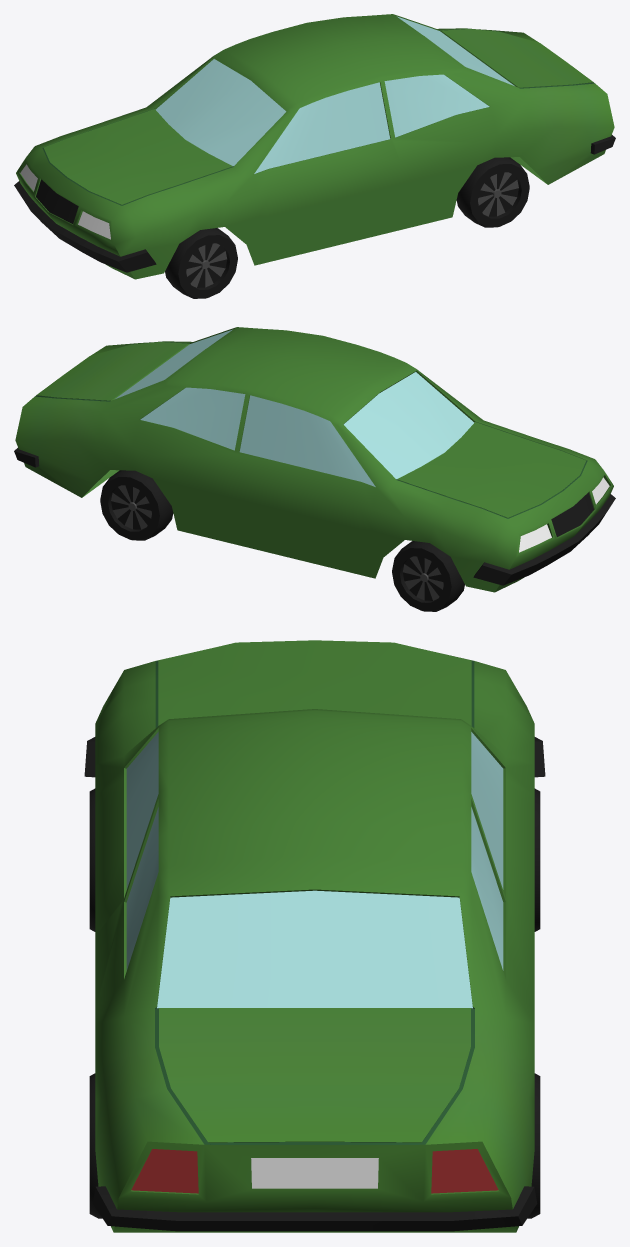
Rendered from green car.glb.
3 views of the same model, one above another, from view 1: azimuth 30°, elevation 25°; view 2: azimuth 150°, elevation 25°; view 3: azimuth 270°, elevation 25° (orthographic). The views are drawn at different scales.
Visible parts, largest first — view 1: yellow car; view 2: yellow car; view 3: yellow car.
Part boxes in pixels (x1,y1,x2,y2): yellow car: (14,14,615,298); yellow car: (14,327,615,611); yellow car: (84,640,545,1232).
Bounding box in the file's own units: 3.67 × 1.13 × 1.4.
1 material, 1 textured.
